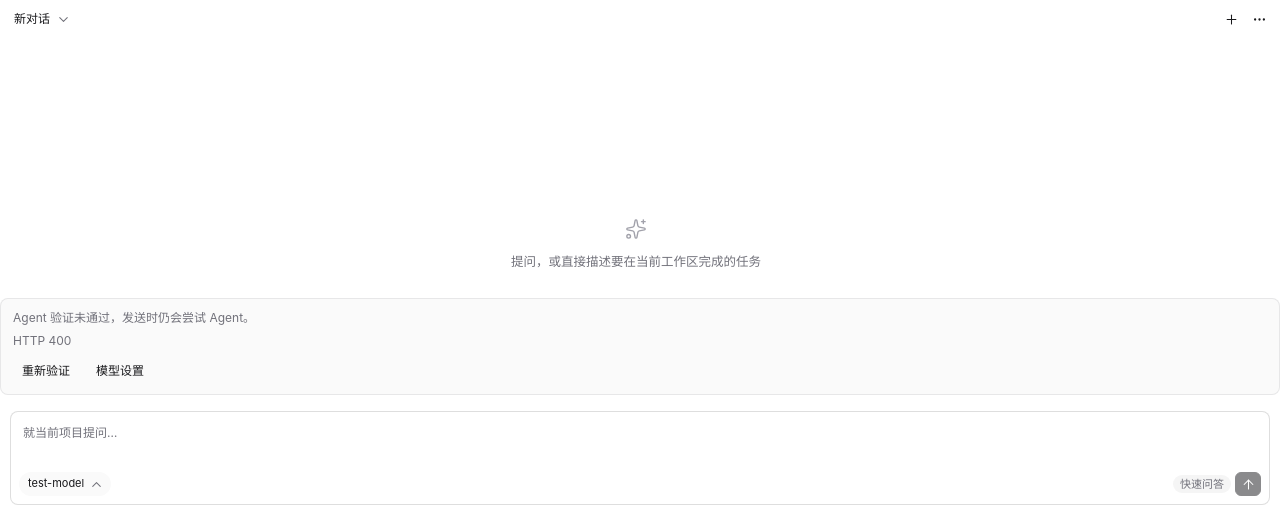
Test: reverifies a failed connection without changing chat roots, models or histories
Click the button "重新验证": (46, 371) [13,358,79,384]
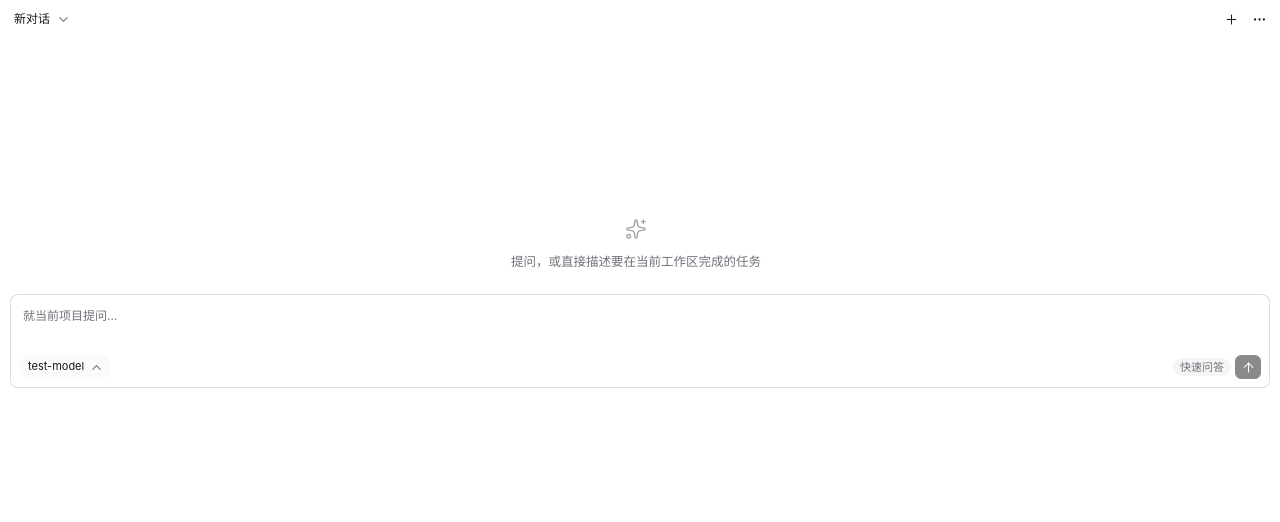
Expected: the button "重新验证" is gone
